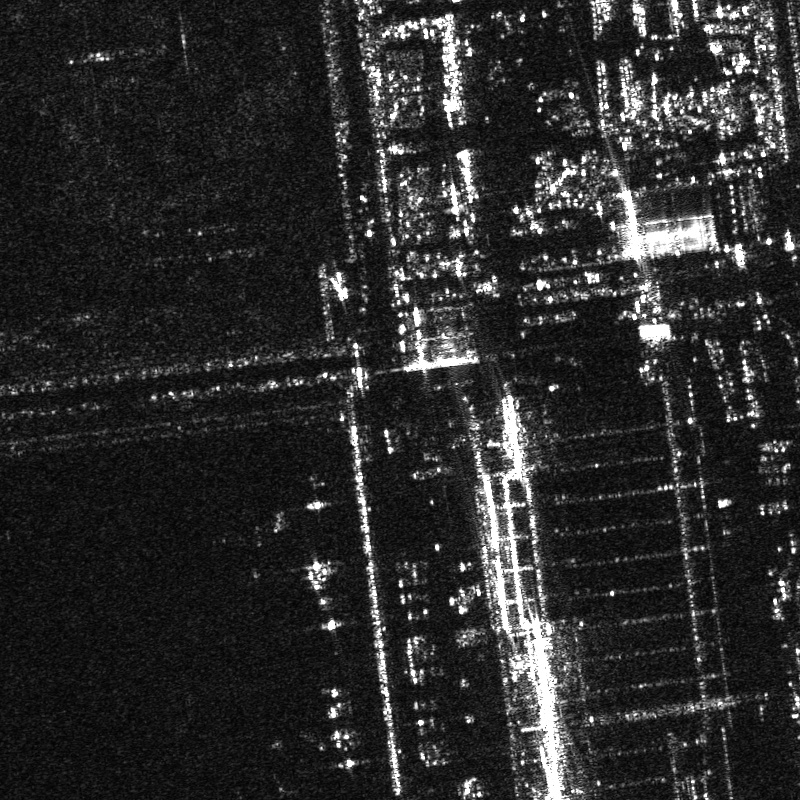Boeing787: (233, 759, 314, 799)
